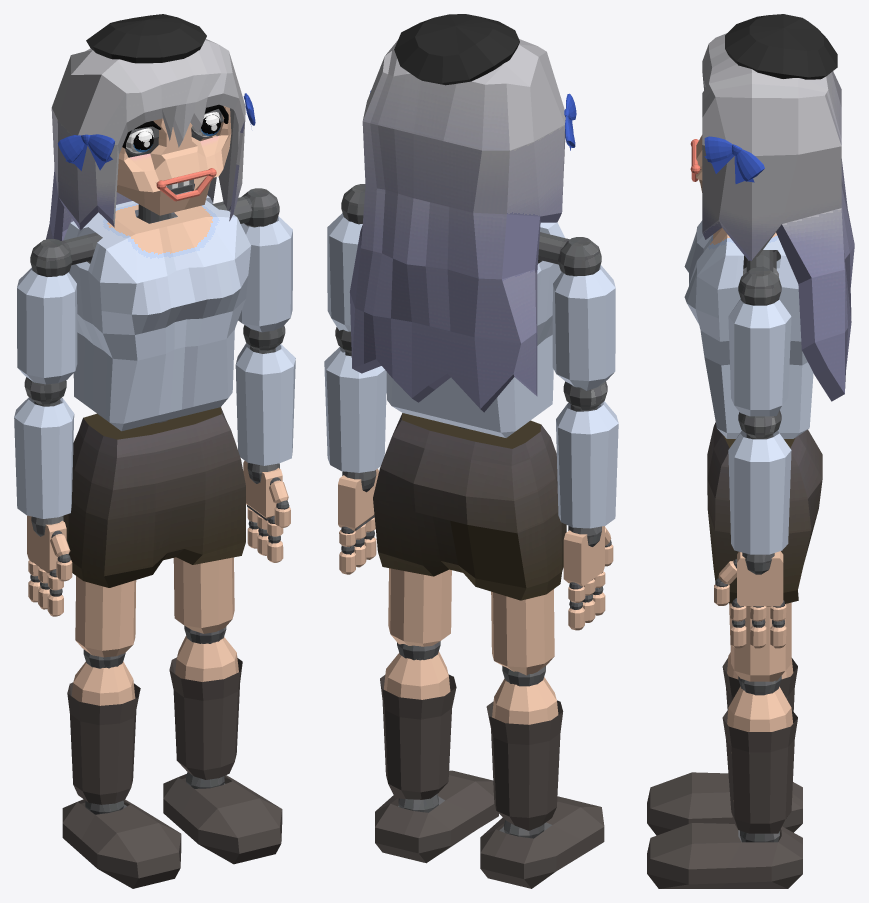
File: Gmch_v1.gltf
3 renders of one model, left to right at view 1: azimuth 30°, elevation 25°; view 2: azimuth 150°, elevation 25°; view 3: azimuth 270°, elevation 25°, orthographic. The views are drawn at different scales.
Visible parts, largest first — view 1: cuboid (×6), cylinder (×8), beveled_cuboid (×3), sphere (×5), cone, Spine; view 2: cuboid (×4), cylinder (×8), beveled_cuboid (×3), sphere (×4), Spine; view 3: cuboid (×3), cylinder (×5), beveled_cuboid (×3), sphere (×5), cone, Spine.
Boxes of the visible parts, <box> form: cuboid (×6): <box>27,39,282,587</box>; cylinder (×8): <box>14,216,295,804</box>; beveled_cuboid (×3): <box>62,191,282,888</box>; sphere (×5): <box>24,14,285,404</box>; cone: <box>58,134,114,170</box>; Spine: <box>61,196,252,422</box>; cuboid (×4): <box>338,39,604,600</box>; cylinder (×8): <box>324,213,618,830</box>; beveled_cuboid (×3): <box>375,222,604,888</box>; sphere (×4): <box>341,14,607,409</box>; Spine: <box>458,232,569,429</box>; cuboid (×3): <box>702,33,854,606</box>; cylinder (×5): <box>722,299,797,833</box>; beveled_cuboid (×3): <box>647,220,813,888</box>; sphere (×5): <box>725,14,837,695</box>; cone: <box>704,136,764,183</box>; Spine: <box>743,250,780,276</box>.
Size of the model in its own units: 0.9719 by 2.75 by 0.6259.
24 materials, 23 textured.
